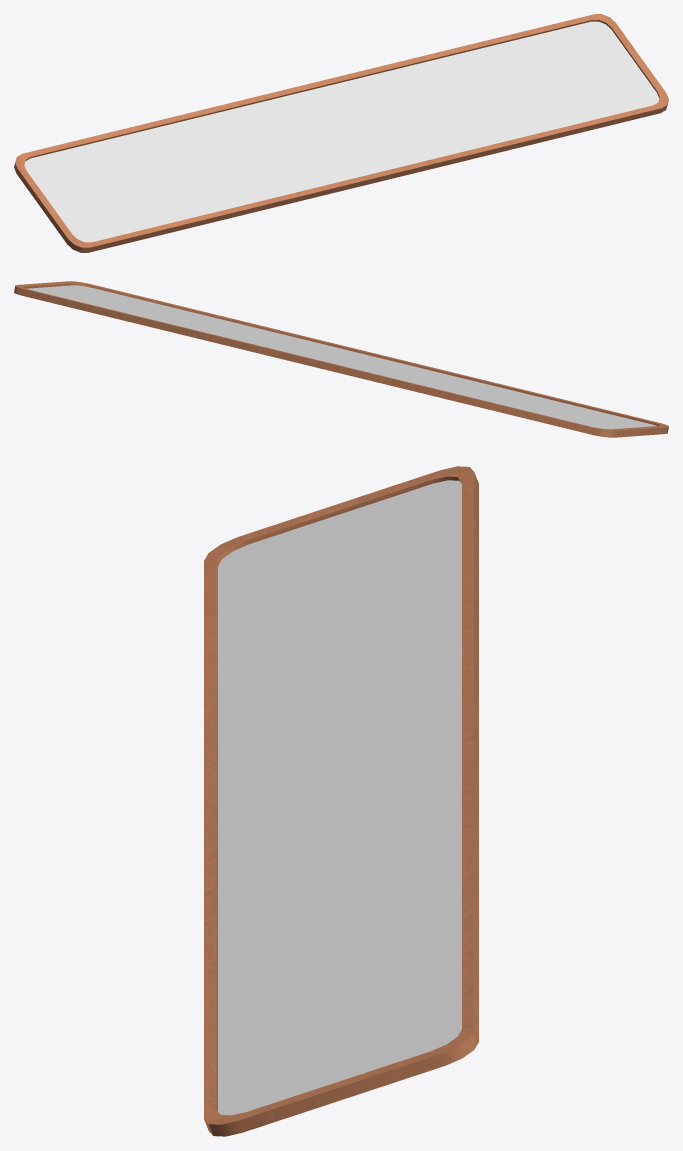
The model's file is InfoTable_Smol.fbx.
3 renders of one model, top to bottom at view 1: azimuth 30°, elevation 25°; view 2: azimuth 150°, elevation 25°; view 3: azimuth 270°, elevation 25°, orthographic. The views are drawn at different scales.
Visible parts, largest first — view 1: TextBase_02.001; view 2: TextBase_02.001; view 3: TextBase_02.001.
Part boxes in pixels (bbox=[...]): TextBase_02.001: bbox=[14, 14, 668, 252]; TextBase_02.001: bbox=[14, 281, 668, 437]; TextBase_02.001: bbox=[204, 466, 478, 1136].
Size of the model in its own units: 10.18 by 0.8205 by 2.02.
